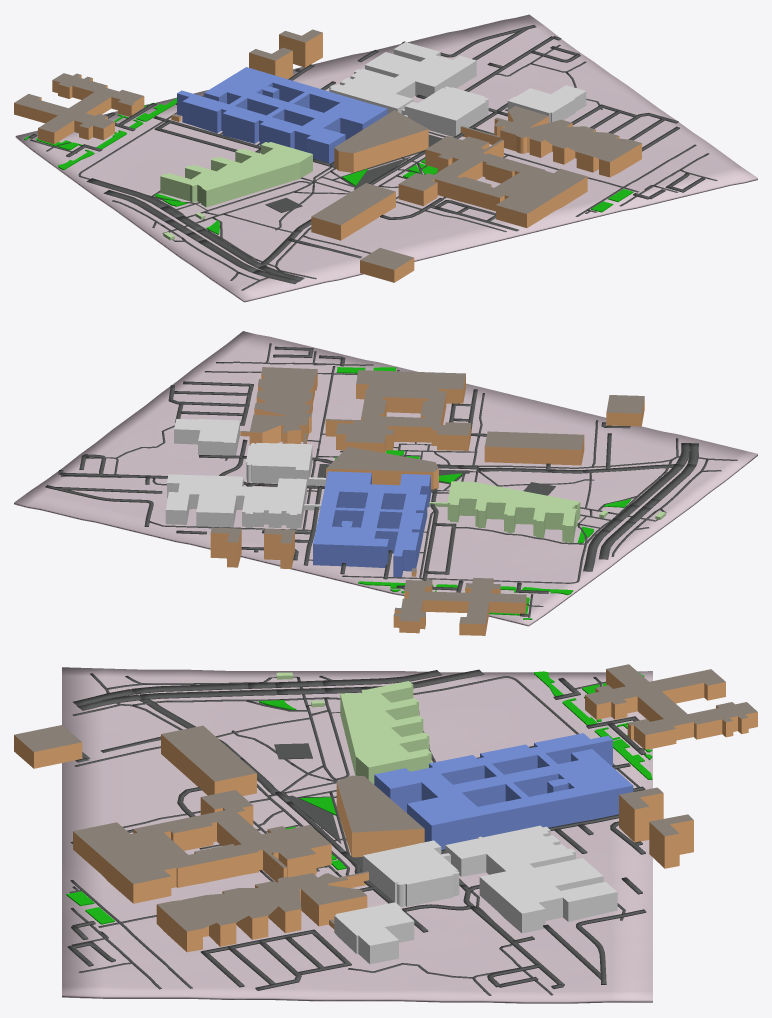
File: HervantaKampus_OMS_MixedVersion_withTerrain.fbx
3 views of the same model, one above another, from view 1: azimuth 30°, elevation 25°; view 2: azimuth 150°, elevation 25°; view 3: azimuth 270°, elevation 25° (orthographic). The views are drawn at different scales.
Visible parts, largest first — view 1: Terrain, Festia, Sahkotalo, Konetalo, ServiceRoads, TietoTalo, Rakennustalo, Kampusareena, RoadsBasic, Highways, TTY-Parkki, Päärakennus (+4 smaller); view 2: Terrain, Festia, Sahkotalo, Konetalo, ServiceRoads, Rakennustalo, TietoTalo, RoadsBasic, TTY-Parkki, Highways, Päärakennus, Kampusareena (+5 smaller); view 3: Terrain, Festia, Sahkotalo, Konetalo, Rakennustalo, ServiceRoads, TietoTalo, Kampusareena, Highways, Päärakennus, TTY-Parkki, RoadsBasic (+5 smaller).
Part boxes in pixels (x1,y1,x2,y2): Terrain: (15,14,757,302); Festia: (14,29,641,282); Sahkotalo: (177,67,387,163); Konetalo: (398,136,587,227); ServiceRoads: (28,25,705,258); TietoTalo: (160,142,312,240); Rakennustalo: (329,42,476,113); Kampusareena: (334,110,428,172); RoadsBasic: (79,73,709,290); Highways: (86,178,304,283); TTY-Parkki: (311,183,395,240); Päärakennus: (401,86,488,136); Terrain: (14,331,757,626); Festia: (210,367,644,635); Sahkotalo: (313,471,430,577); Konetalo: (325,370,470,452); ServiceRoads: (45,346,630,616); Rakennustalo: (165,474,321,529); TietoTalo: (429,481,665,542); RoadsBasic: (149,361,737,581); TTY-Parkki: (484,431,584,465); Highways: (583,443,698,571); Päärakennus: (246,442,325,486); Kampusareena: (326,446,438,489); Terrain: (62,667,652,1003); Festia: (14,664,757,952); Sahkotalo: (374,733,633,849); Konetalo: (73,790,331,903); Rakennustalo: (445,825,617,933); ServiceRoads: (67,678,646,990); TietoTalo: (276,672,431,784); Kampusareena: (336,775,424,857); Highways: (73,669,484,710); Päärakennus: (363,840,459,906); TTY-Parkki: (161,725,256,795); RoadsBasic: (70,673,625,989).
Bounding box in the file's own units: 56162 × 3287 × 54498.
